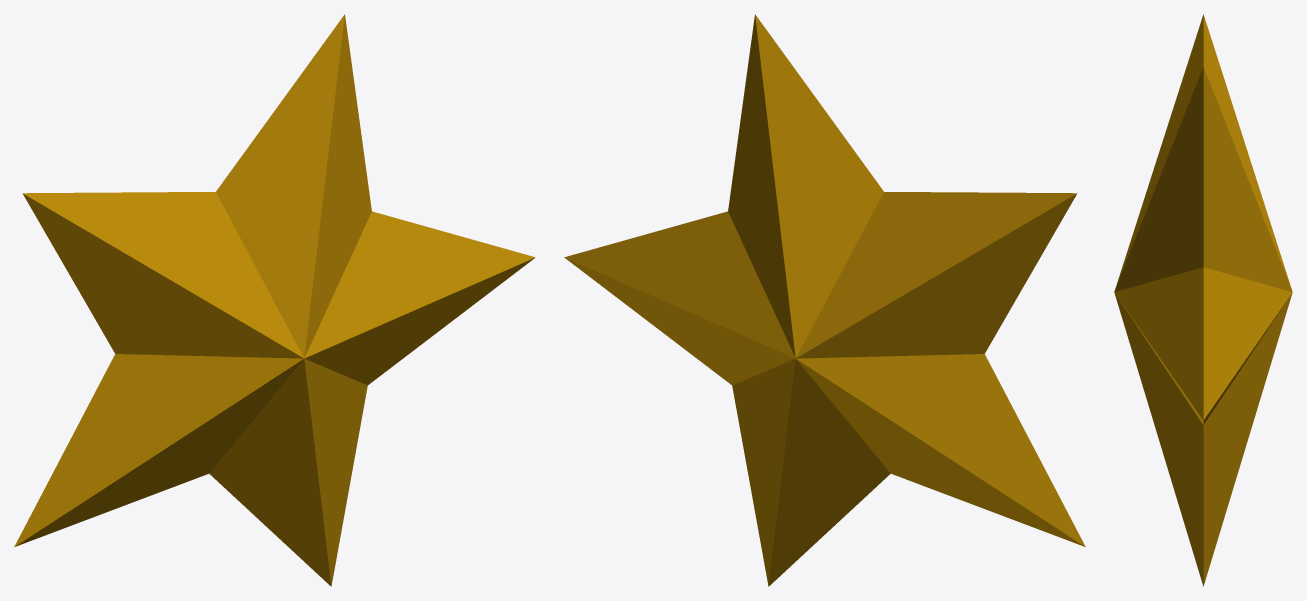
File: Star.fbx
The picture shows the model from 3 angles, left to right: view 1: azimuth 30°, elevation 25°; view 2: azimuth 150°, elevation 25°; view 3: azimuth 270°, elevation 25°; orthographic projection. The views are drawn at different scales.
Visible parts, largest first — view 1: Star; view 2: Star; view 3: Star.
Part boxes in pixels (left/top/right/bottom): Star: left=14, top=14, right=535, bottom=586; Star: left=564, top=14, right=1085, bottom=586; Star: left=1114, top=14, right=1292, bottom=586.
Bounding box in the file's own units: 3.71 × 3.87 × 1.19.
